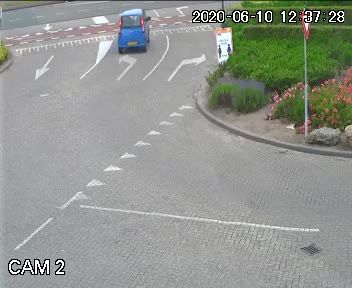car: (108, 3, 160, 66)
